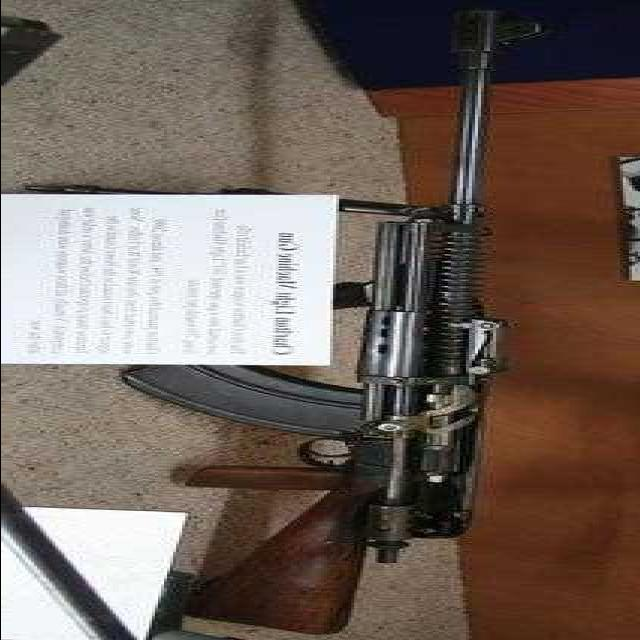heavyweapon: (98, 8, 596, 636)
